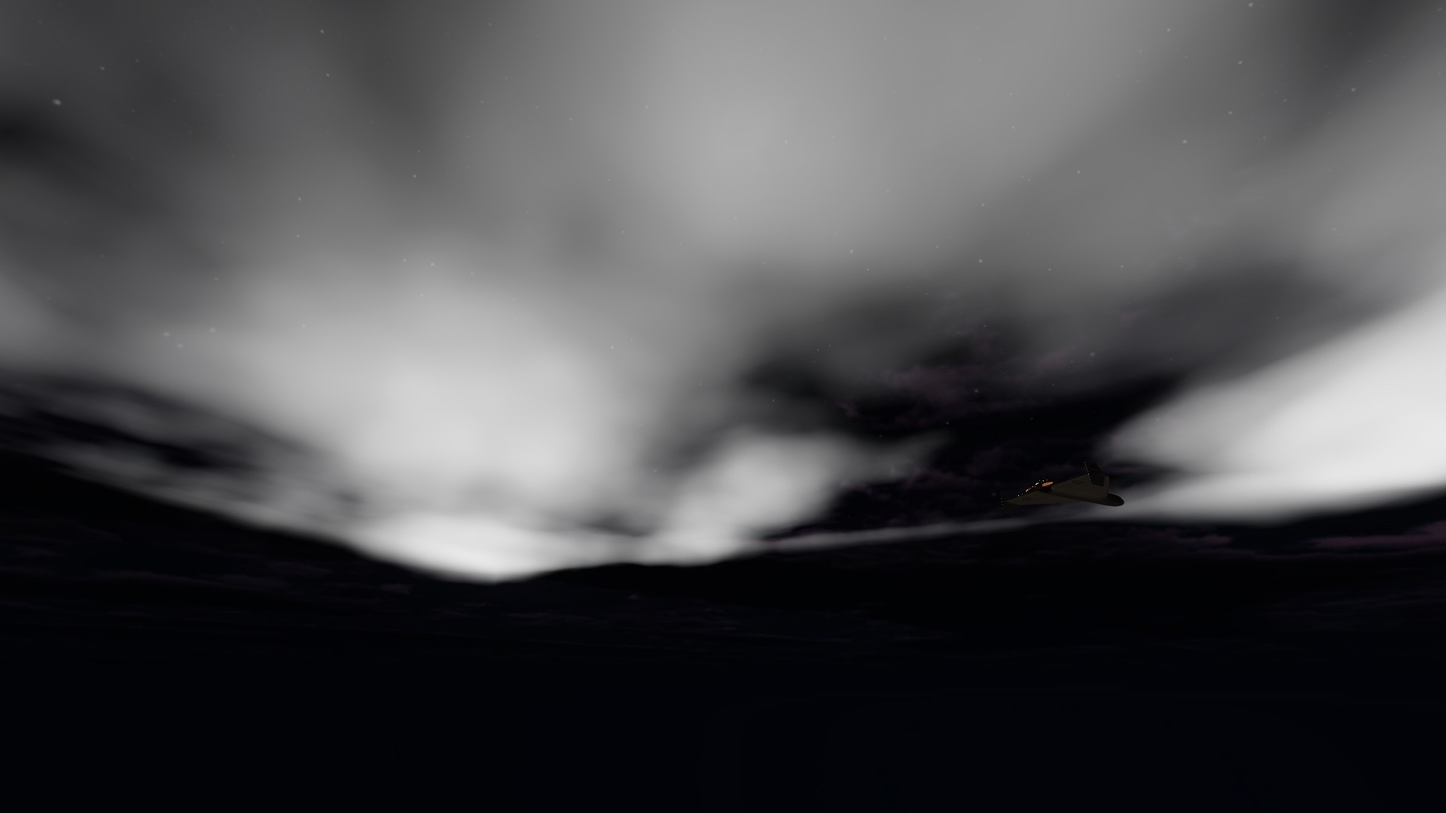shahed: (999, 460, 1124, 514)
